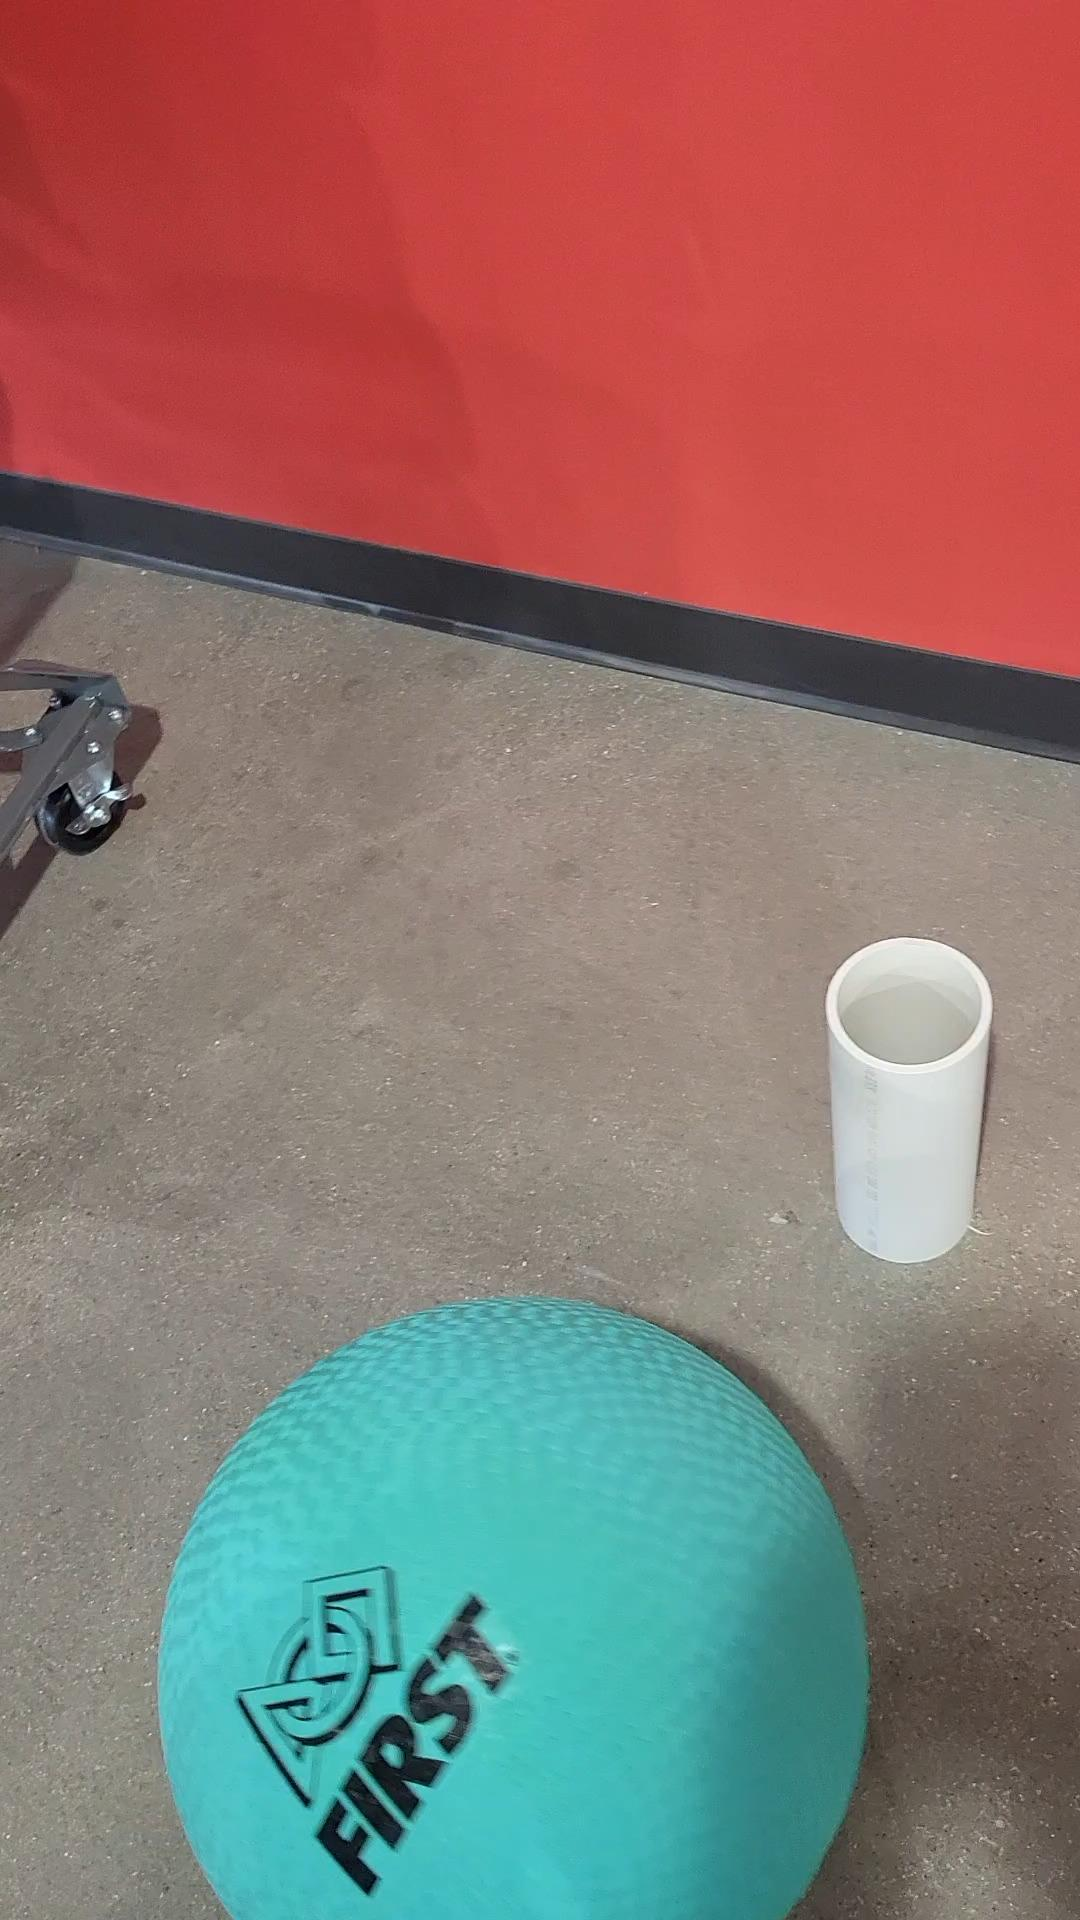algae: (157, 1287, 876, 1920)
coral: (825, 935, 996, 1265)
